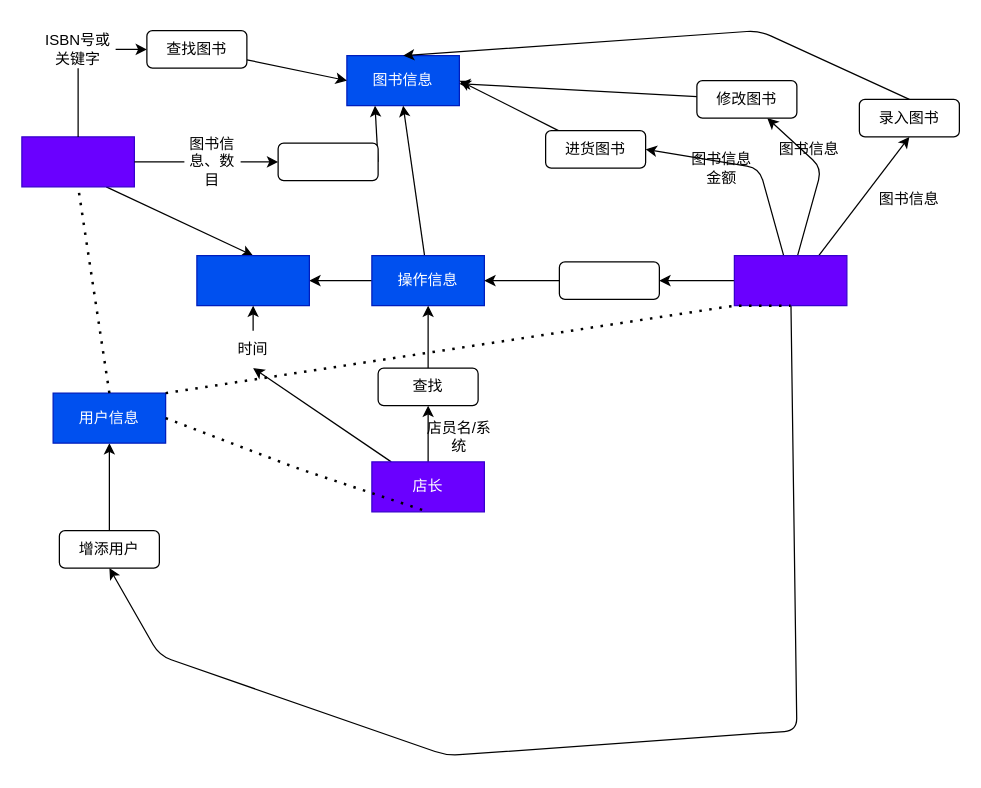
Some shapes in this 981 by 788 pixel diagram are drawn without their labels. Here are the shapes that lost their labels. From the top down, the centre of each, then its label:
At pixel 77 161: "用户".
At pixel 327 161: "购买图书".
At pixel 252 280: "盈利信息".
At pixel 608 280: "产生".
At pixel 790 280: "店员".
